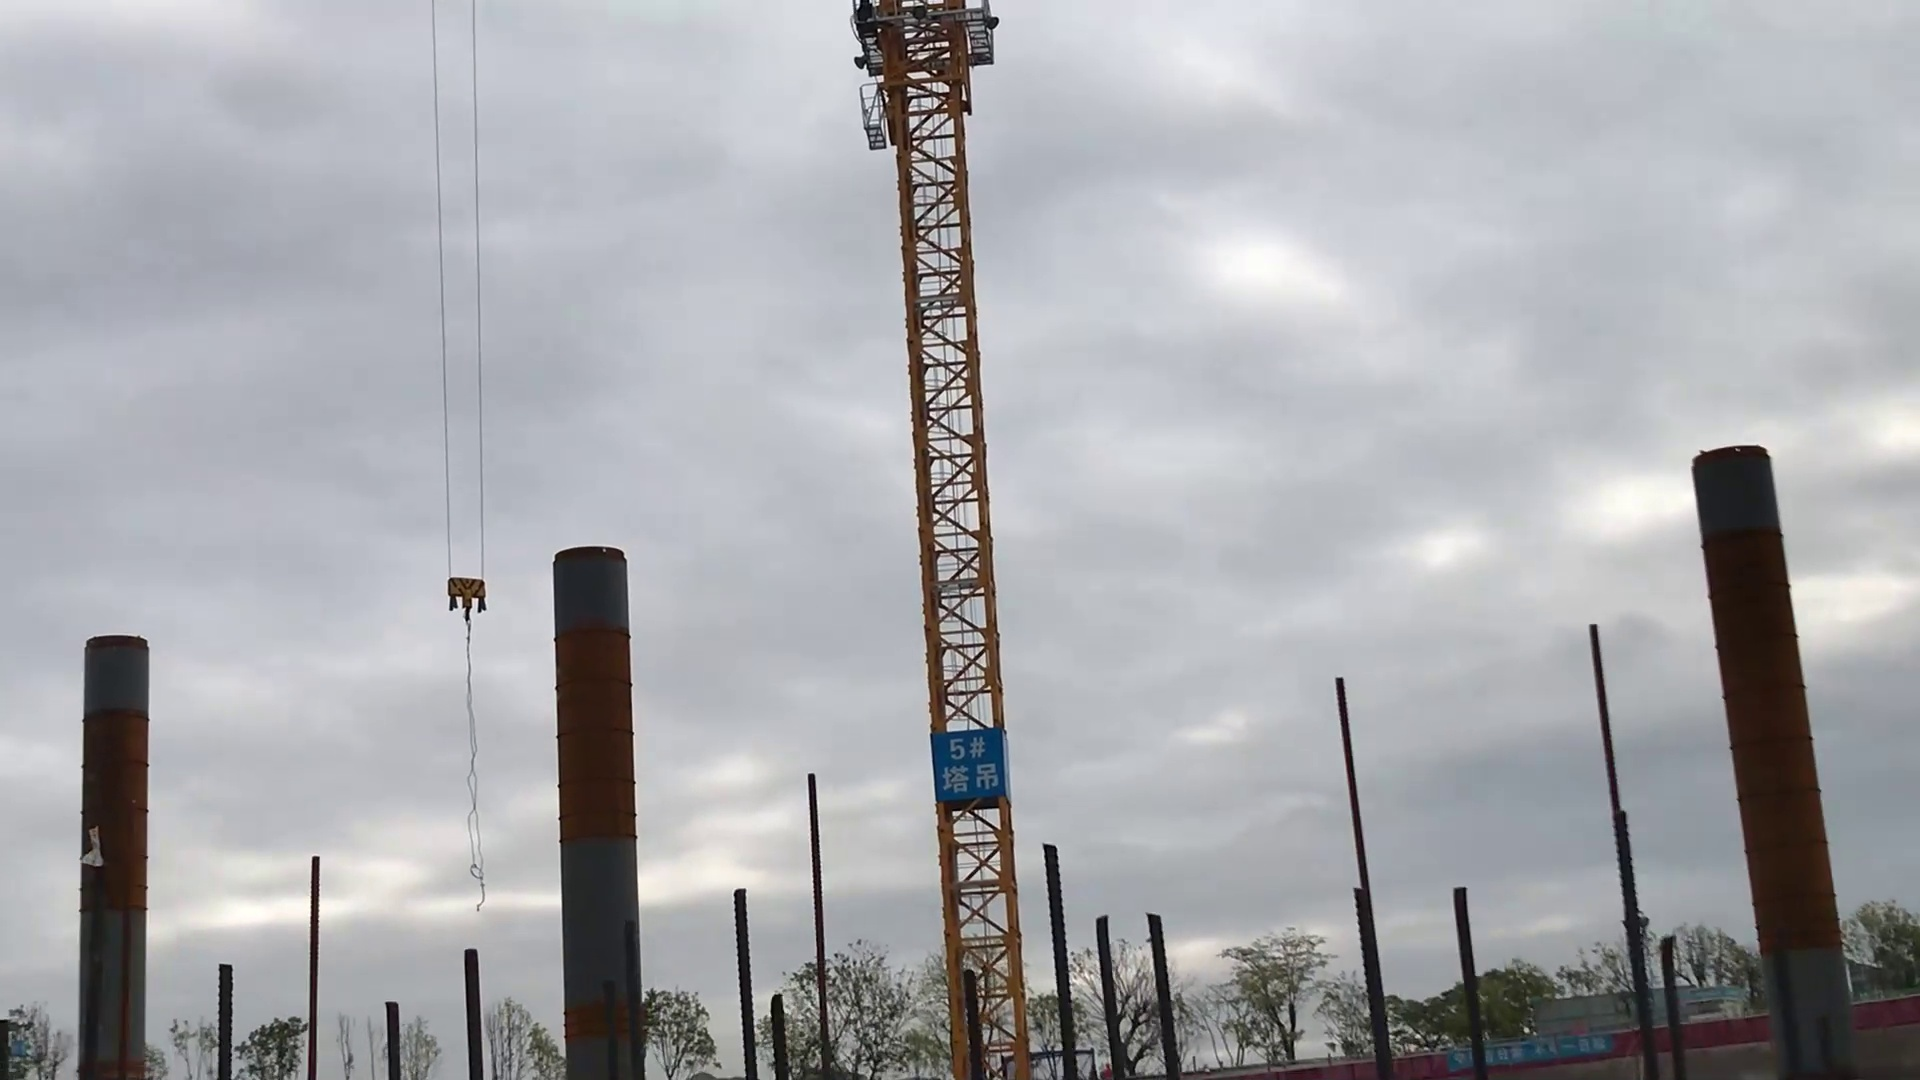hook: (447, 582, 491, 616)
